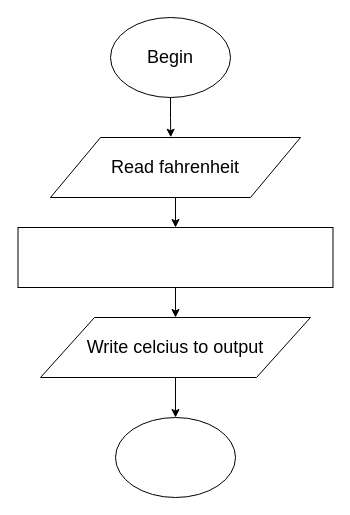
Image size: 350x515. Some labels were removed from this diagram. Here are the shapes that lost their labels. From the top down, the box of each, then its label:
(17, 226, 333, 288): celcius = (fahrenheit - 32.0) * 5.0 / 9.0
(114, 416, 236, 498): End
